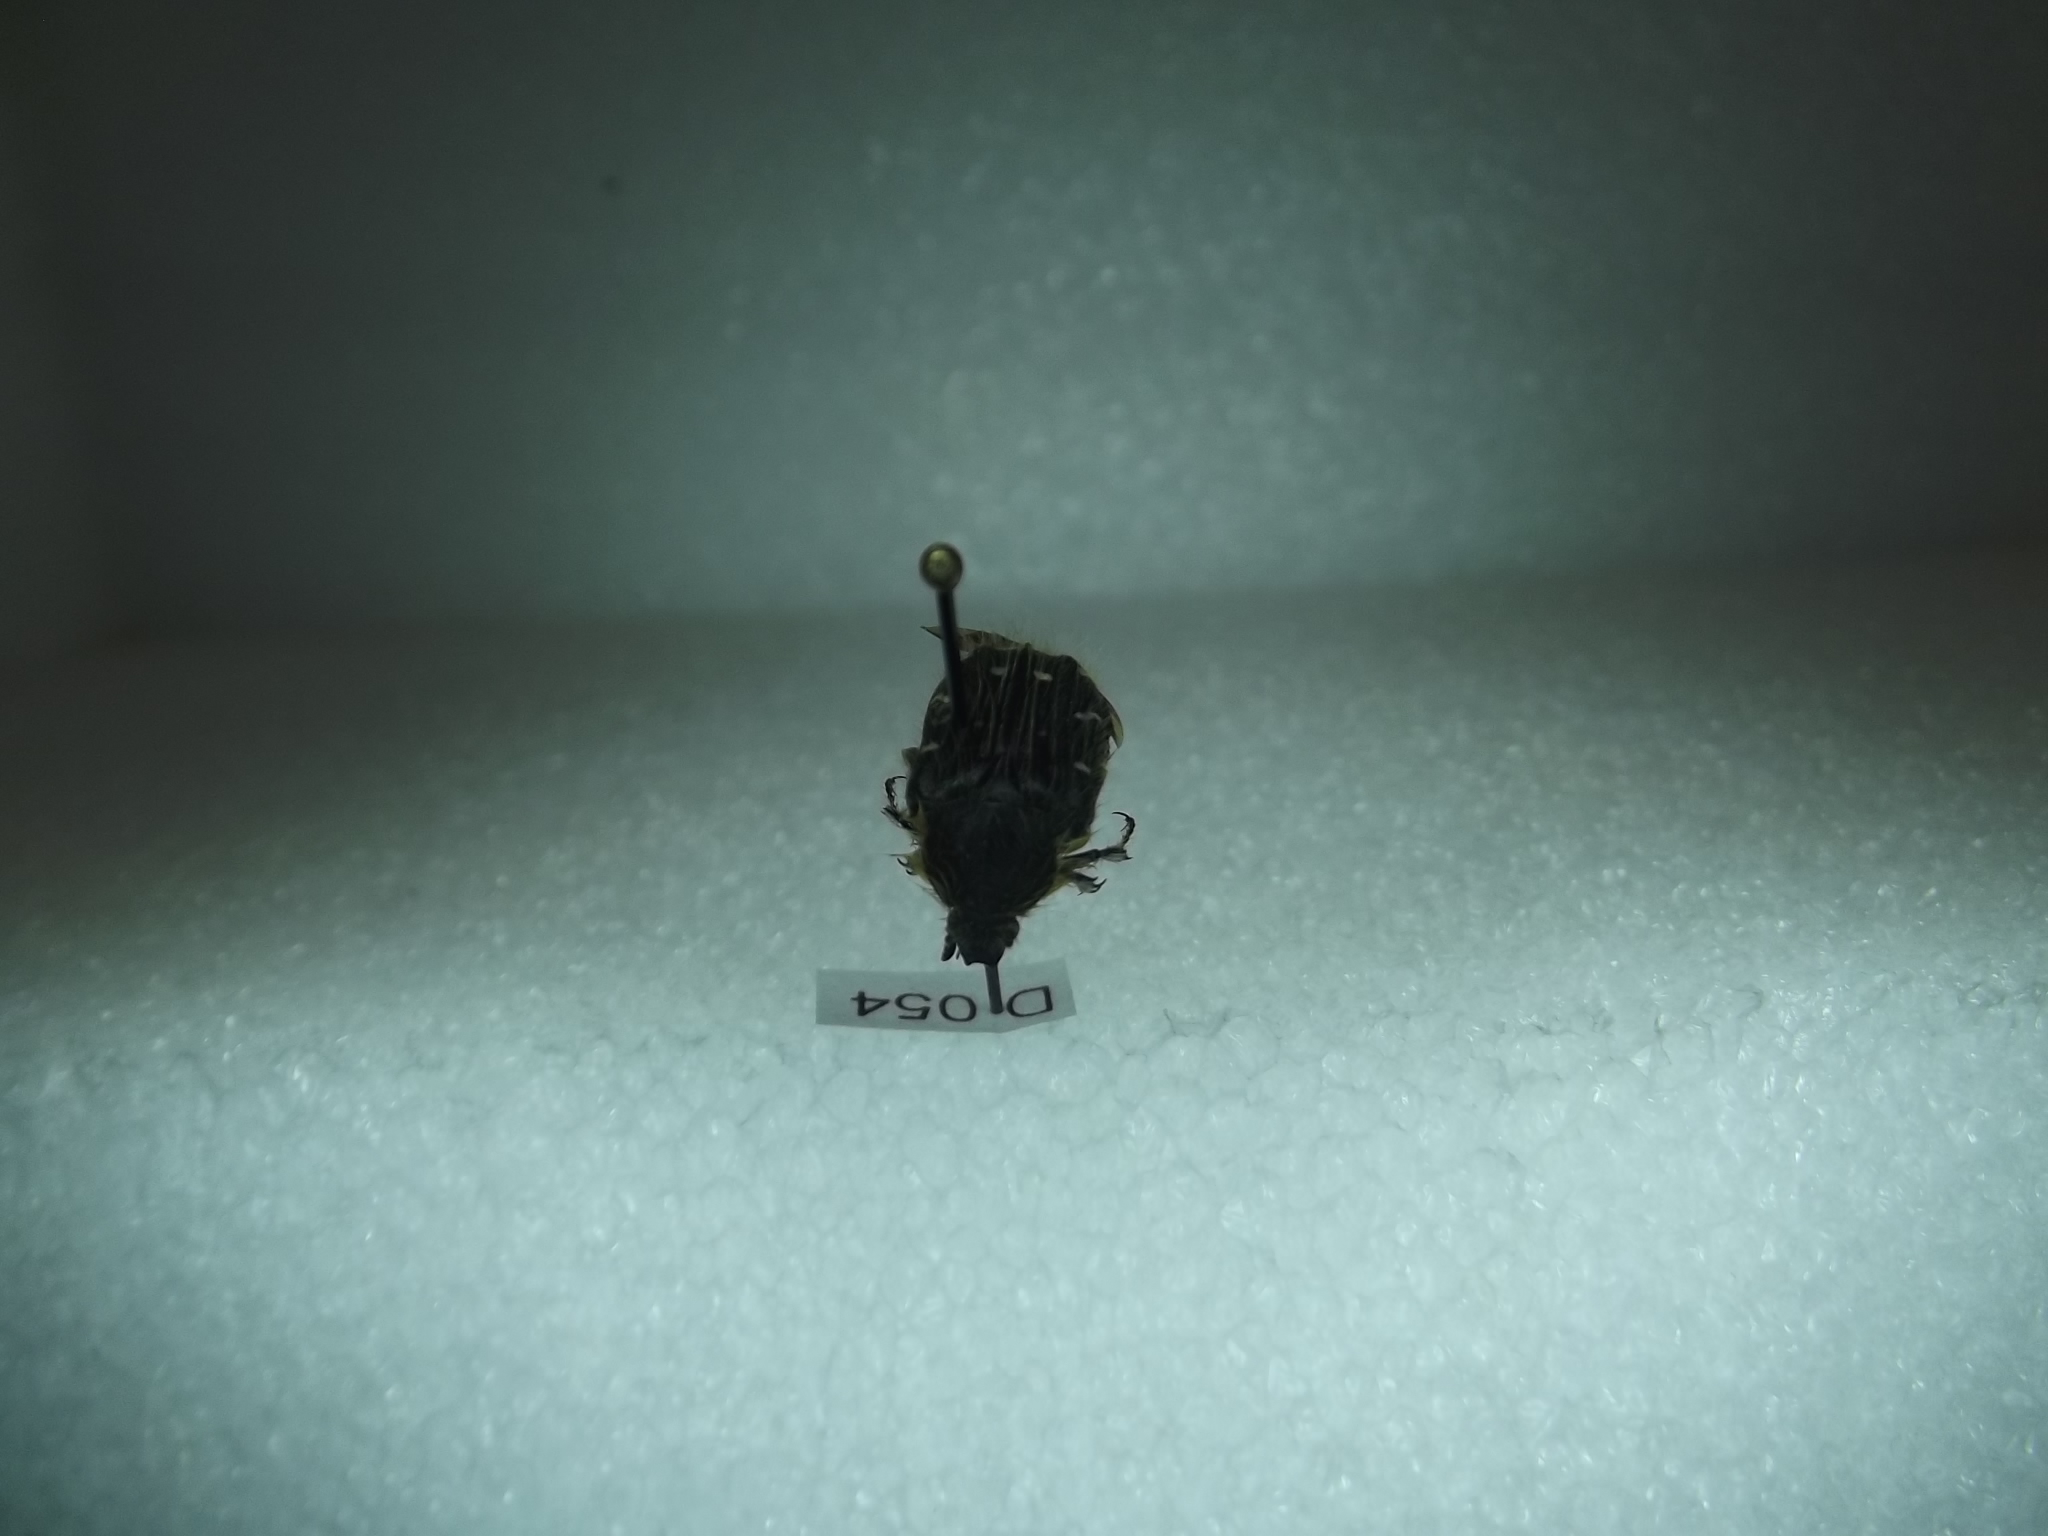Tropinota_hirta: (871, 623, 1143, 975)
